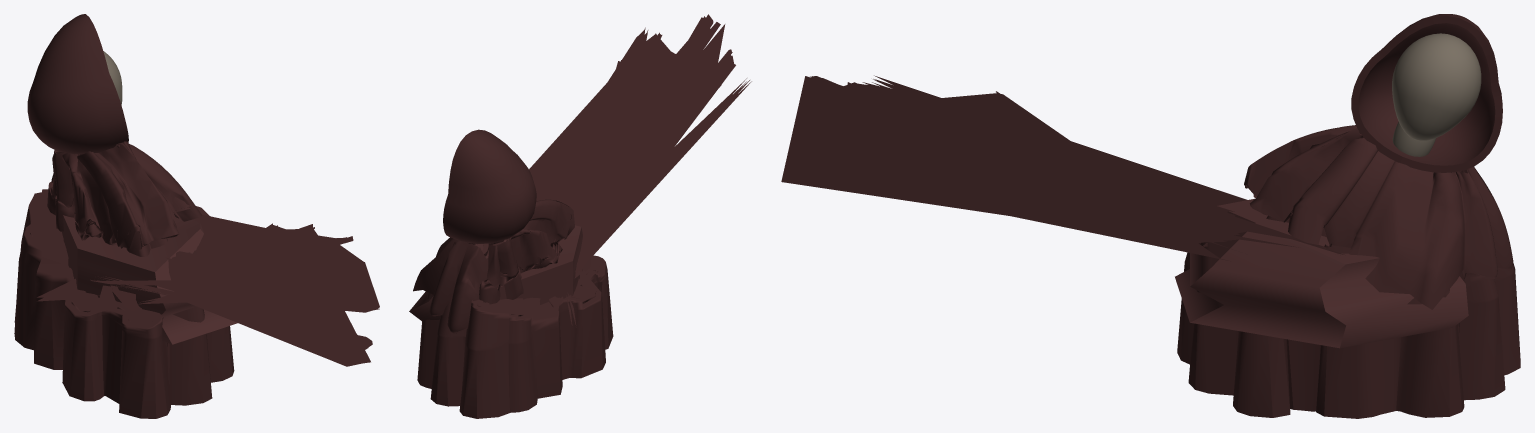
The model's file is slumped alchemist.fbx.
3 renders of one model, left to right at view 1: azimuth 30°, elevation 25°; view 2: azimuth 150°, elevation 25°; view 3: azimuth 270°, elevation 25°, orthographic. The views are drawn at different scales.
Parts seen in each view (by area): view 1: polySurface62, polySurface60, polySurface61, pCylinder1; view 2: polySurface62, polySurface61, polySurface60, pCylinder1; view 3: polySurface60, polySurface62, polySurface61, pCylinder1.
Part boxes in pixels (x1,y1,x2,y2): polySurface62: (92,214,379,418); polySurface60: (27,14,202,249); polySurface61: (14,189,234,418); pCylinder1: (61,206,237,344); polySurface62: (529,14,751,349); polySurface61: (417,240,606,418); polySurface60: (413,129,574,333); pCylinder1: (409,225,582,321); polySurface60: (1244,14,1513,309); polySurface62: (781,75,1421,304); polySurface61: (1177,213,1520,418); pCylinder1: (1175,198,1468,348).
Size of the model in its own units: 10.72 by 17.69 by 32.16.
